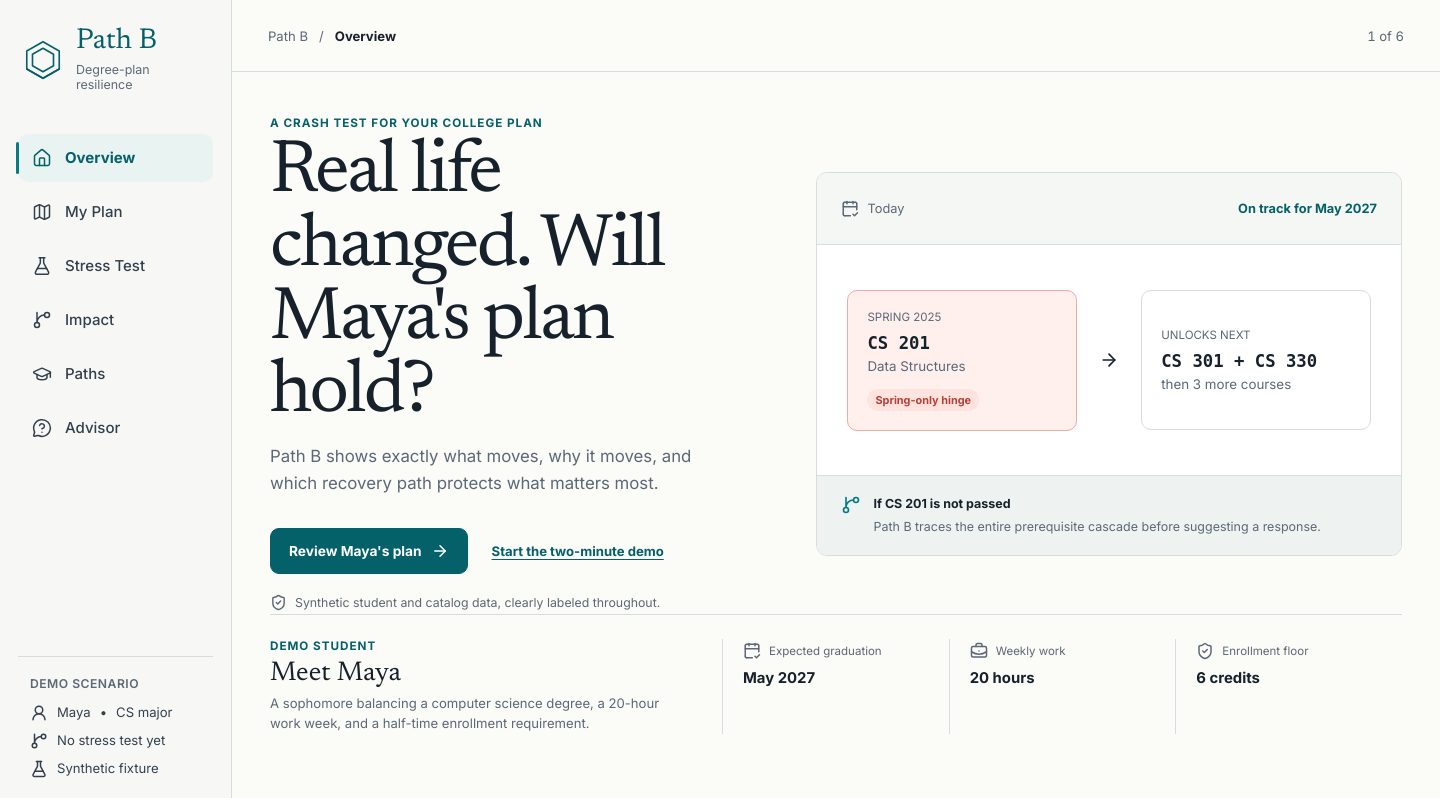
Test: App › changes the recommendation when Maya protects work
Click the link "Start the two-minute demo" at [578, 551], box top-left (492, 543), bottom-right (664, 559)
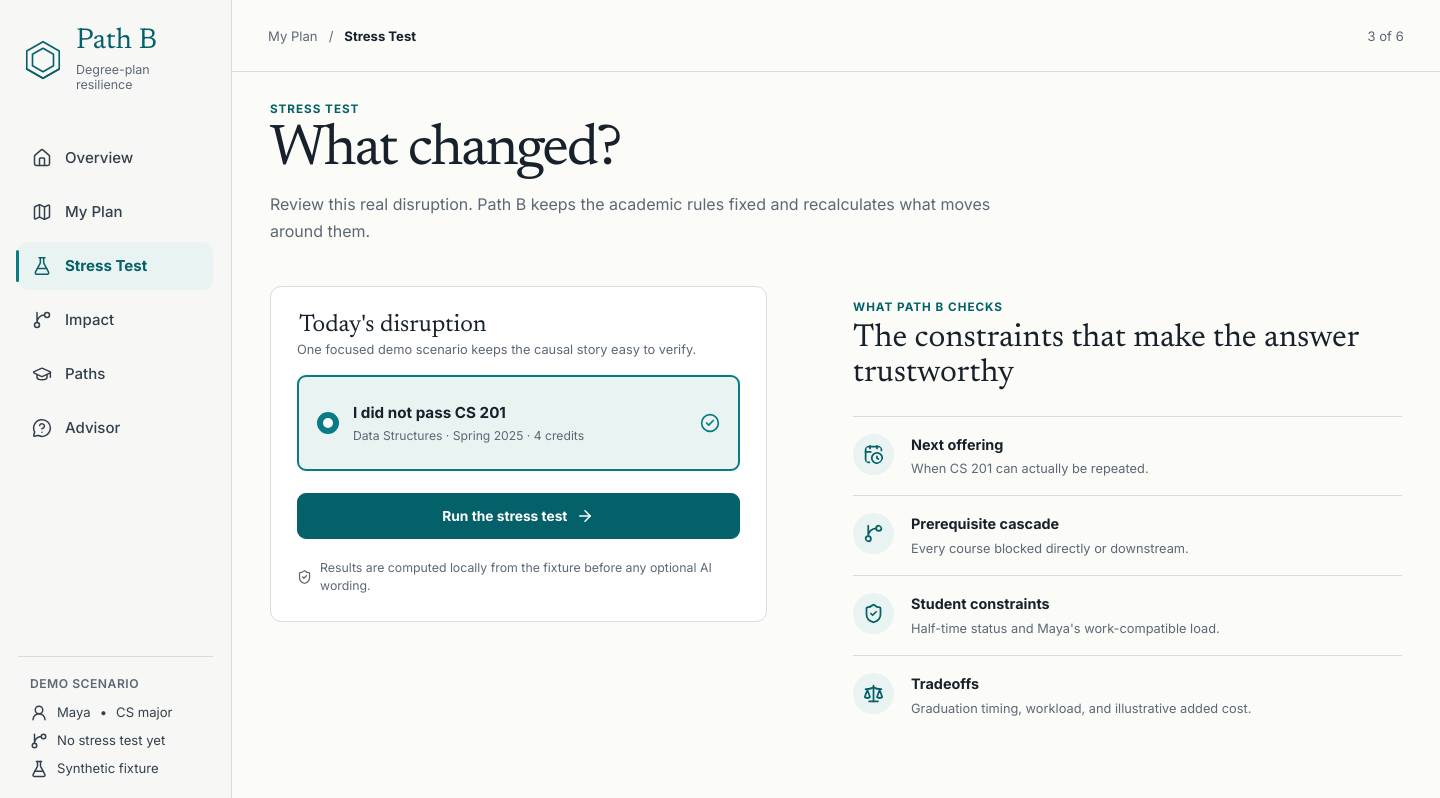
Result: the radio button labelled "I did not pass CS 201" is checked at top-left (297, 375), bottom-right (740, 471)
Click the button "Run the stress test" at [518, 516], box top-left (297, 493), bottom-right (740, 539)
(page scrolled)
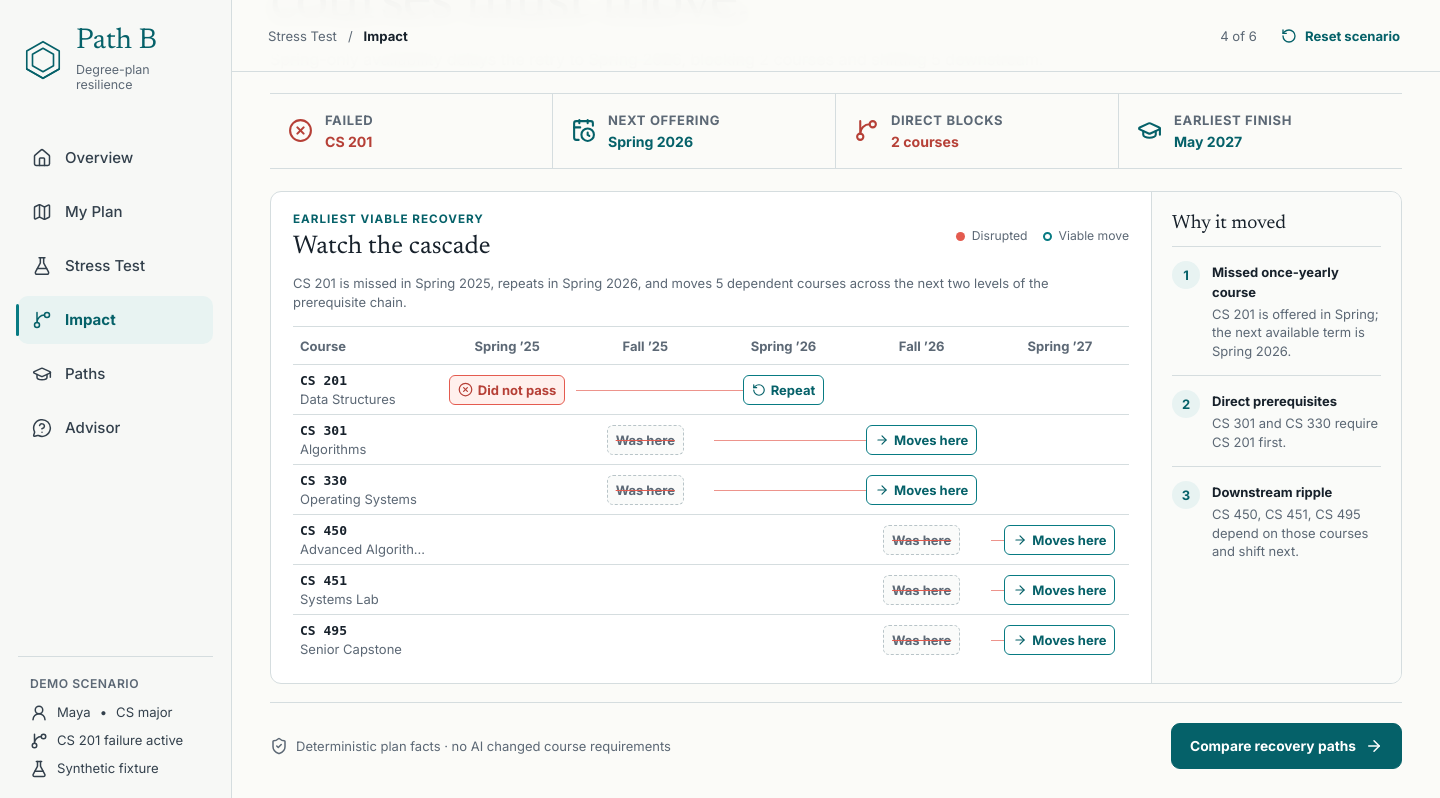
Click the link "Compare recovery paths" at [1286, 746], box top-left (1171, 723), bottom-right (1402, 769)
(page scrolled)
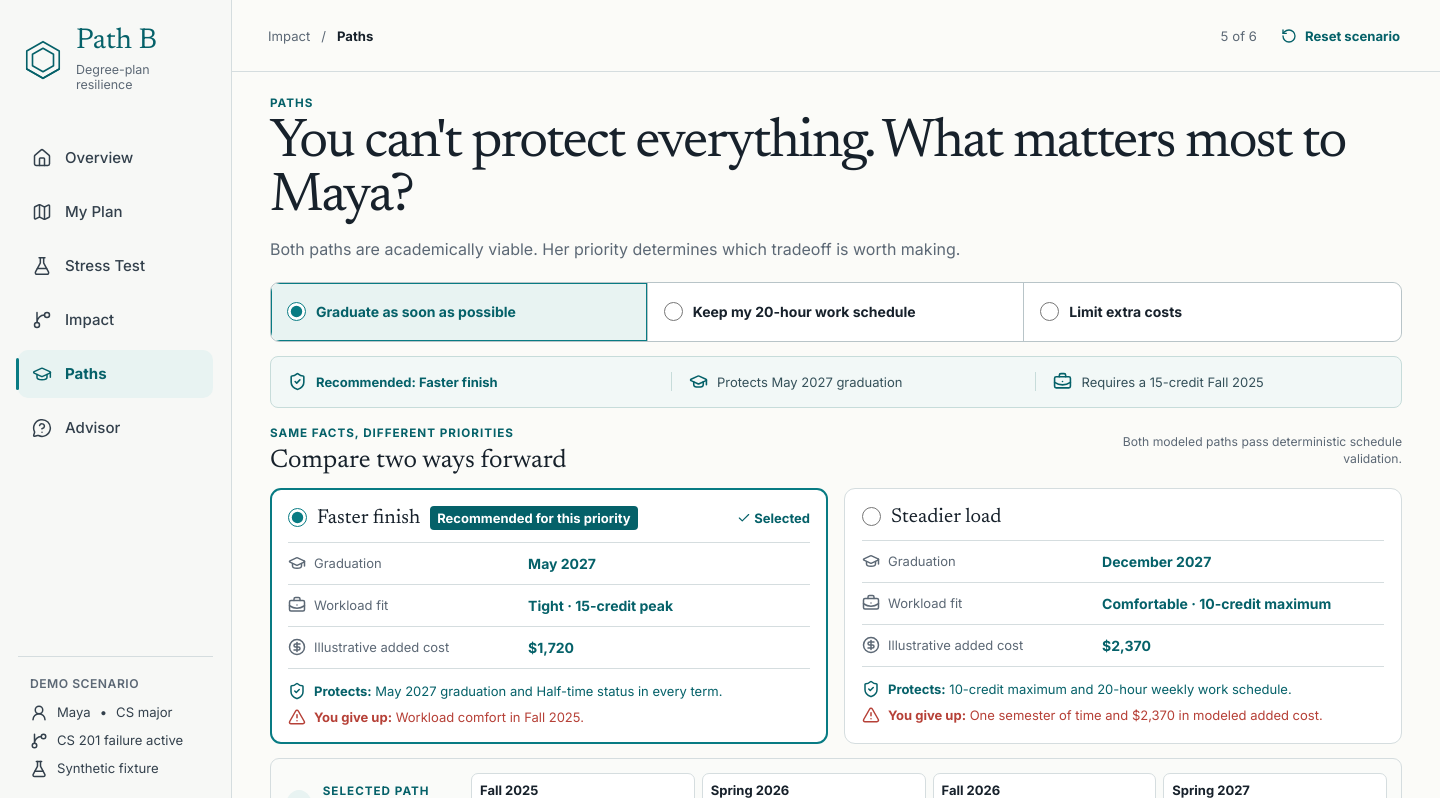
Click the radio button labelled "Keep my 20-hour work schedule" at [673, 312], box top-left (664, 302), bottom-right (683, 321)
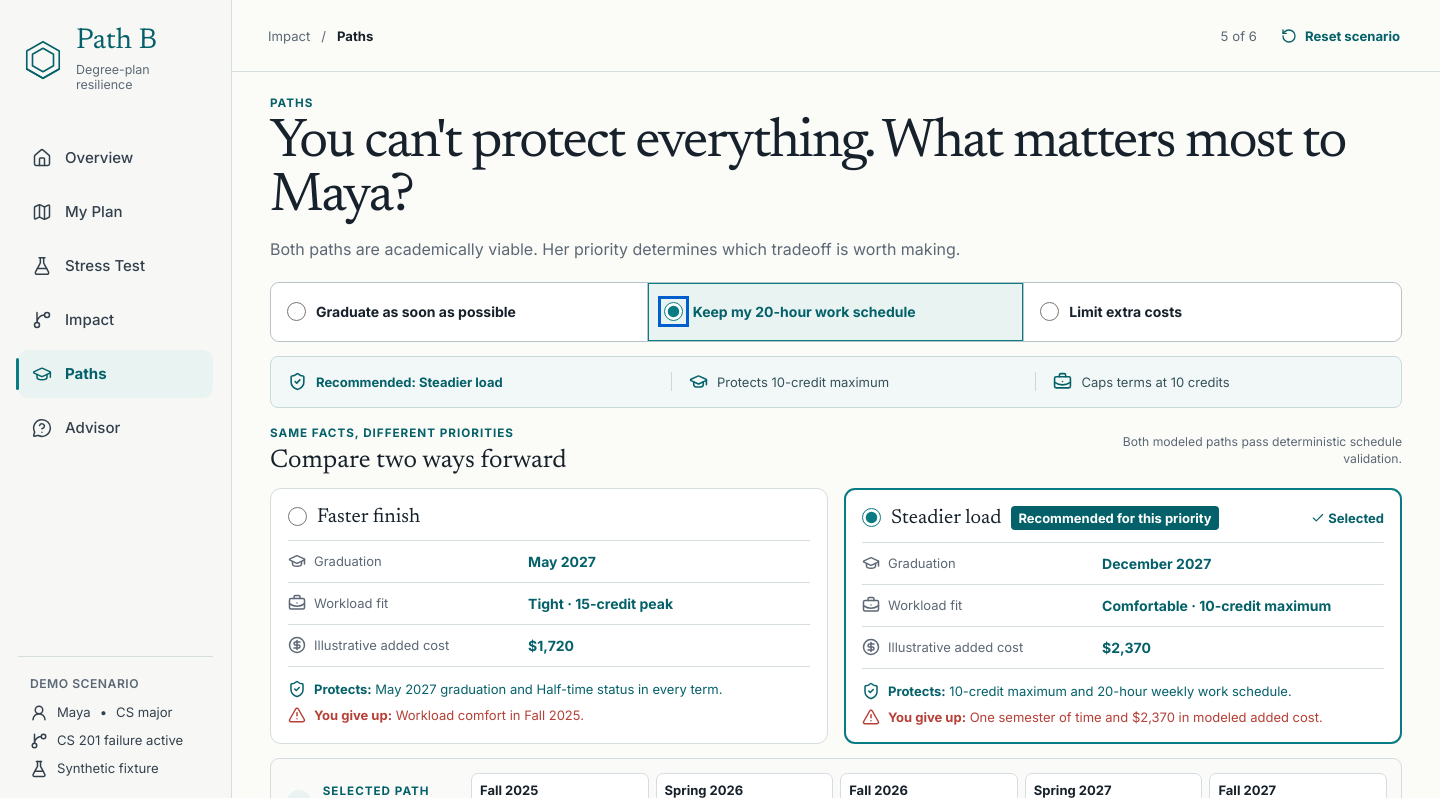
Result: the text "December 2027" is shown at top-left (1102, 555), bottom-right (1211, 572)
Result: the text "Recommended: Steadier load" is shown at top-left (316, 374), bottom-right (503, 390)
Result: the radio button labelled "Steadier load" is checked at top-left (862, 508), bottom-right (881, 527)
